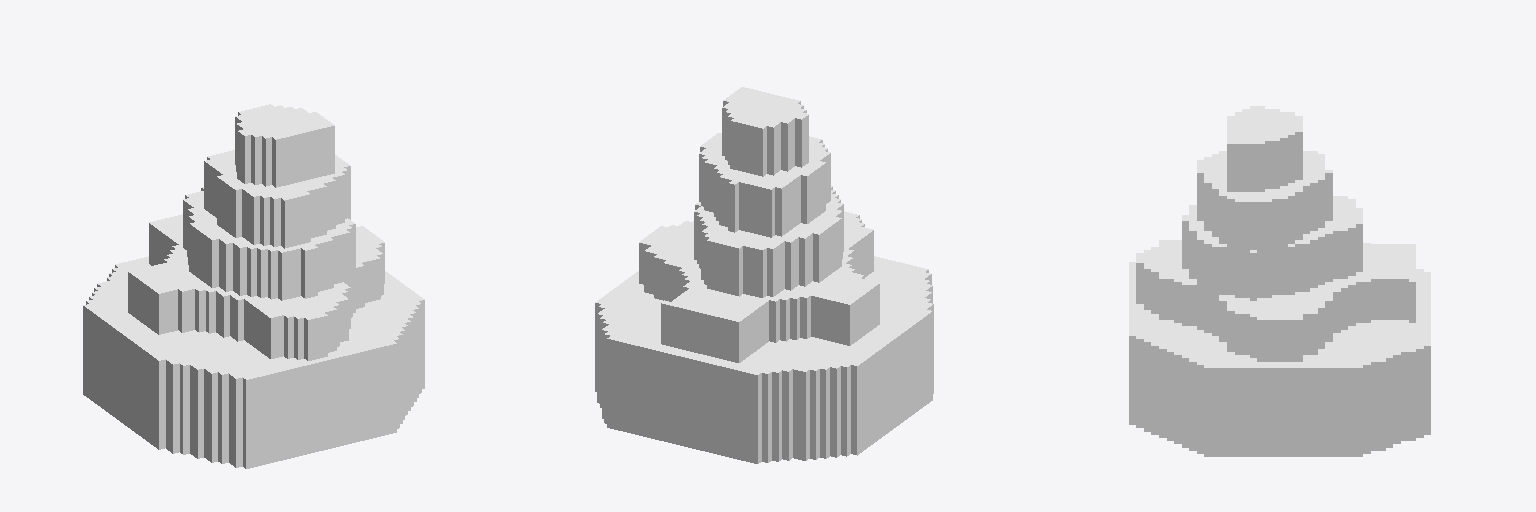
File: Boss_Stone.obj
3 views of the same model, side by side, from view 1: azimuth 30°, elevation 25°; view 2: azimuth 150°, elevation 25°; view 3: azimuth 270°, elevation 25° (orthographic).
Parts seen in each view (by area): view 1: object 1; view 2: object 1; view 3: object 1.
Part boxes in pixels (bbox=[...]): object 1: bbox=[83, 104, 424, 468]; object 1: bbox=[595, 87, 933, 463]; object 1: bbox=[1129, 106, 1430, 456].
Bounding box in the file's own units: 4 × 4 × 4.